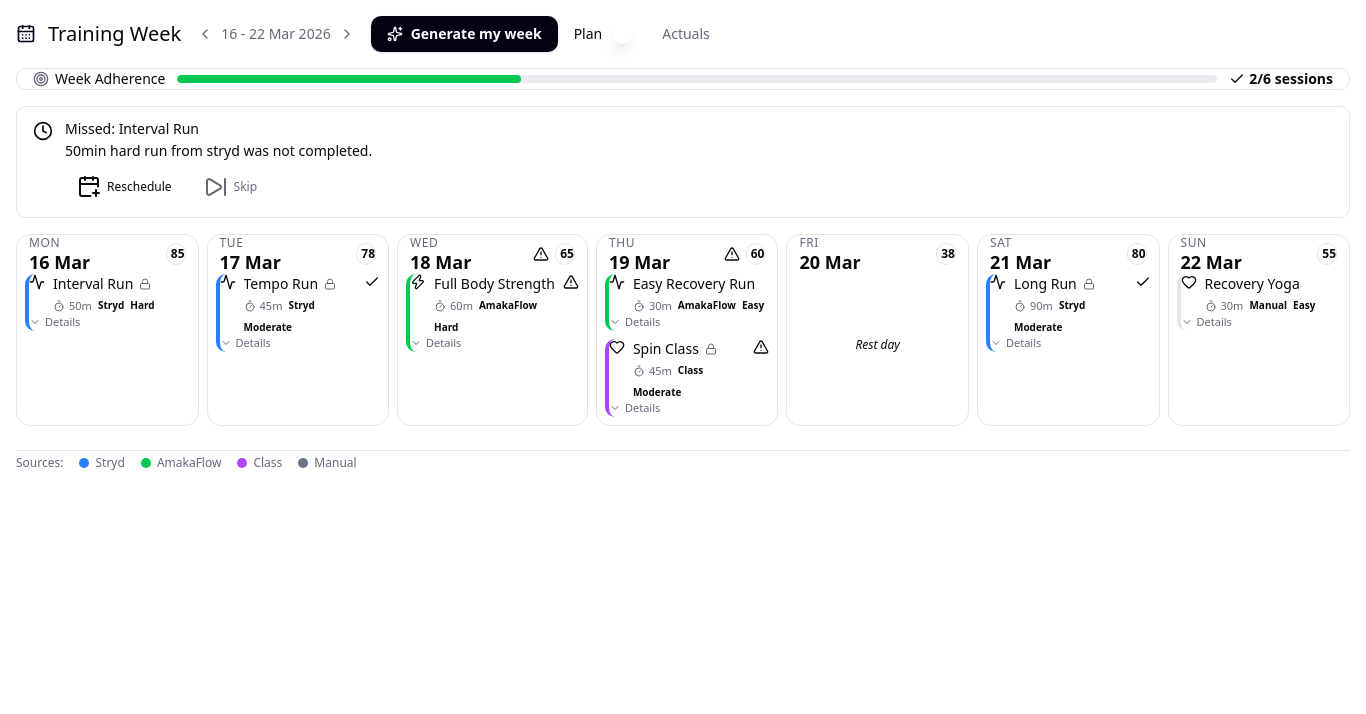
TrainingWeekView › dismisses conflict warning when X is clicked
Click the button with test id "generate-week-btn": point(464, 34) [371,16,558,52]
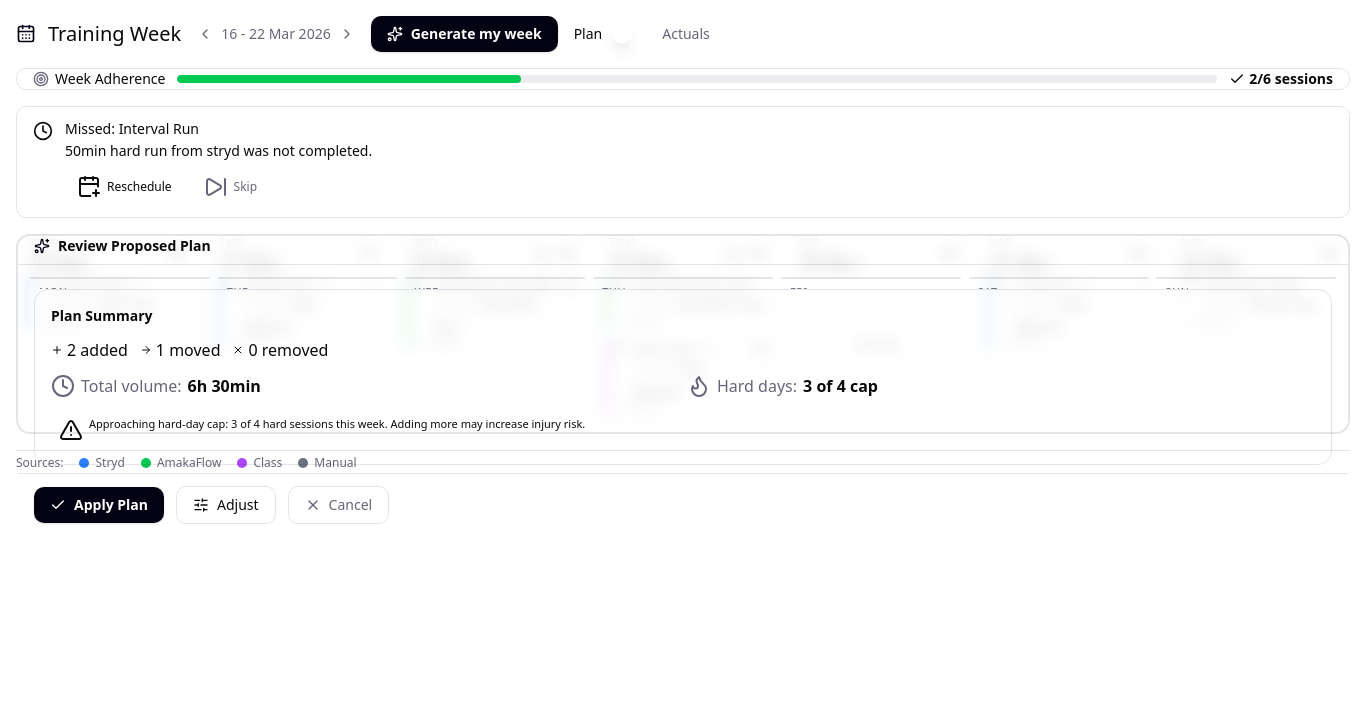
Expected: the button with test id "apply-plan-btn" is shown
Click the button with test id "apply-plan-btn": point(99, 505) [34,487,164,523]
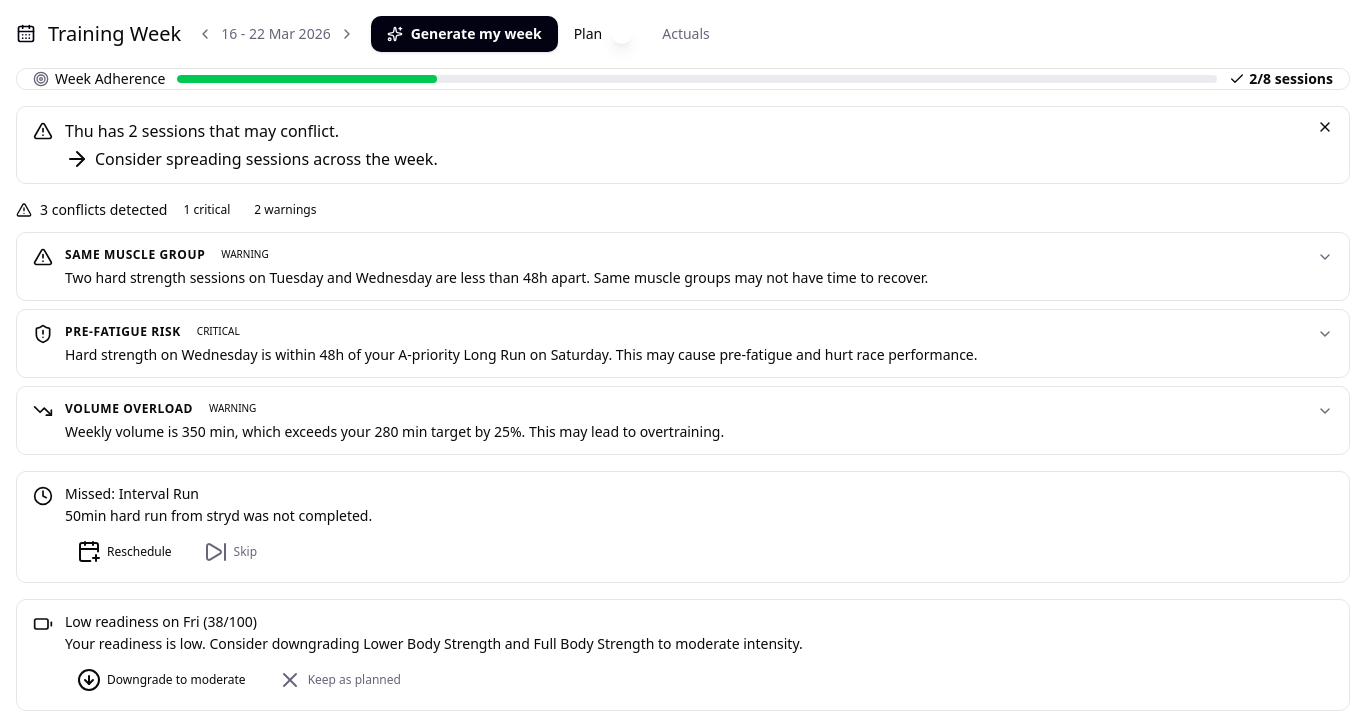
Expected: the element with test id "conflict-warning-banner" is shown, [16,106,1350,184]
Click the button named "Dismiss conflict warning": point(1325, 127) [1317,119,1333,135]
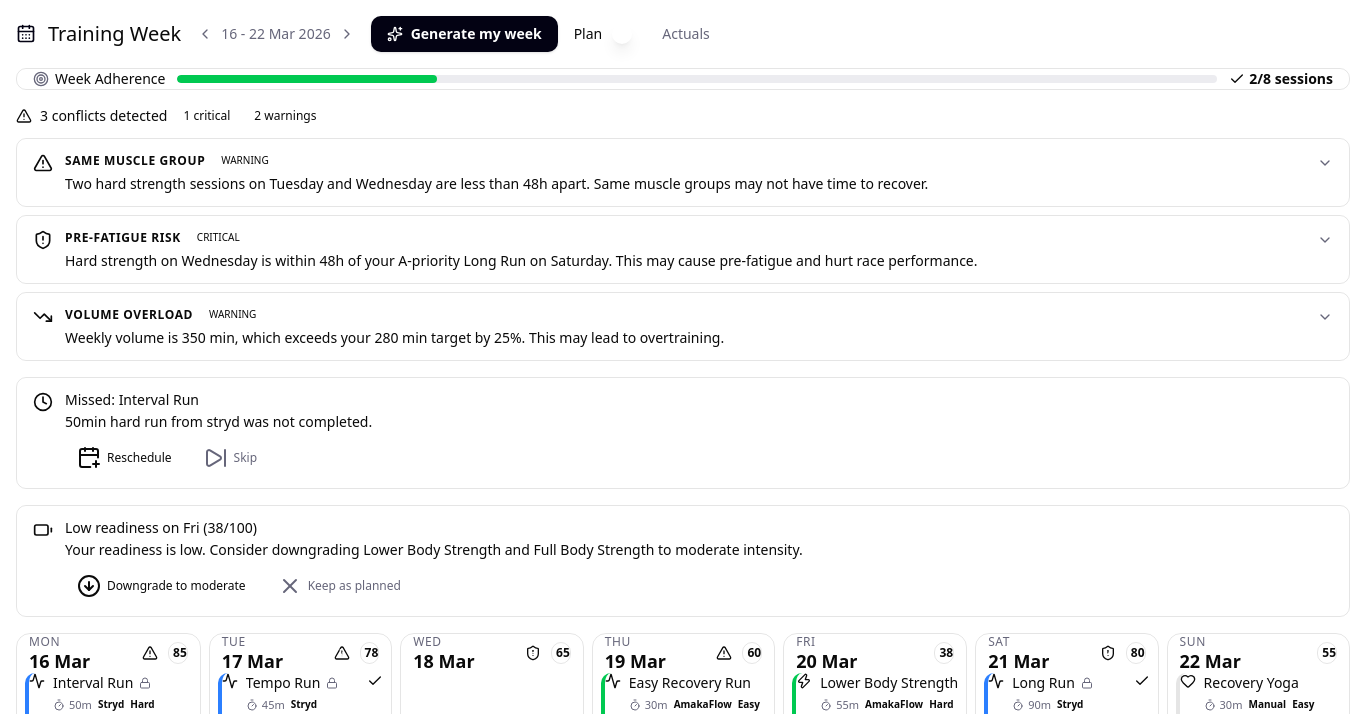
Expected: the element with test id "conflict-warning-banner" is gone
